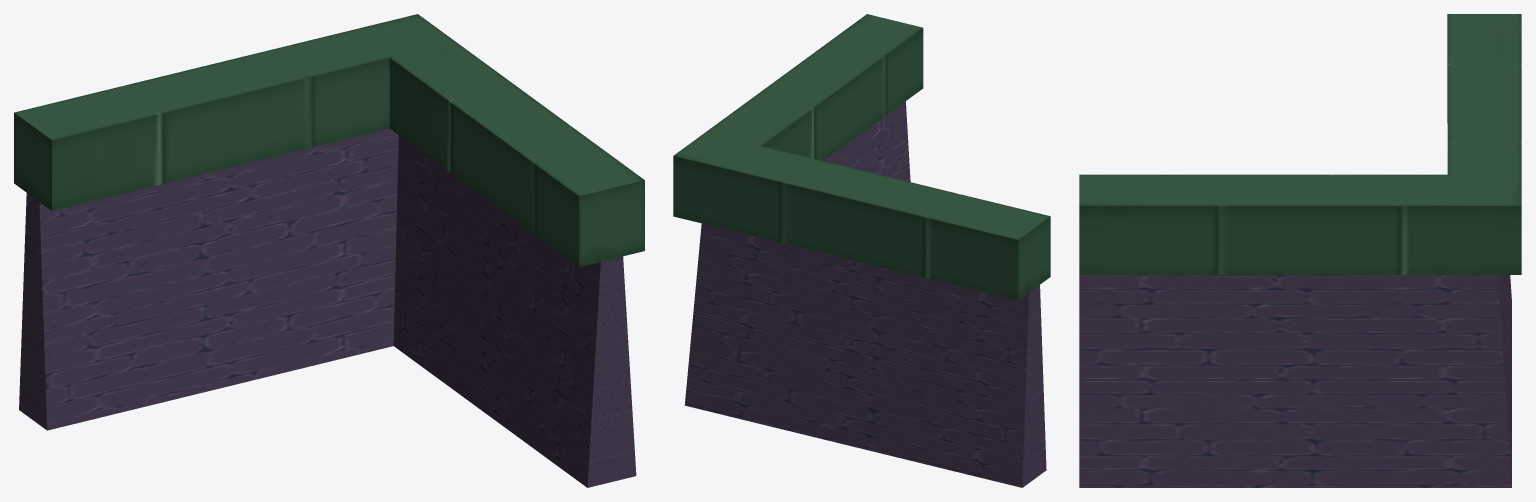
Rendered from wall_corner.fbx.
3 views of the same model, side by side, from view 1: azimuth 30°, elevation 25°; view 2: azimuth 150°, elevation 25°; view 3: azimuth 270°, elevation 25° (orthographic). The views are drawn at different scales.
Parts seen in each view (by area): view 1: Wall_Corner; view 2: Wall_Corner; view 3: Wall_Corner.
Part boxes in pixels (box(x1,y1,x2,y2)): Wall_Corner: box(14, 14, 644, 487); Wall_Corner: box(673, 14, 1050, 487); Wall_Corner: box(1079, 14, 1521, 487).
Size of the model in its own units: 797 by 554 by 776.
Materials: 1 (1 with a texture image).
